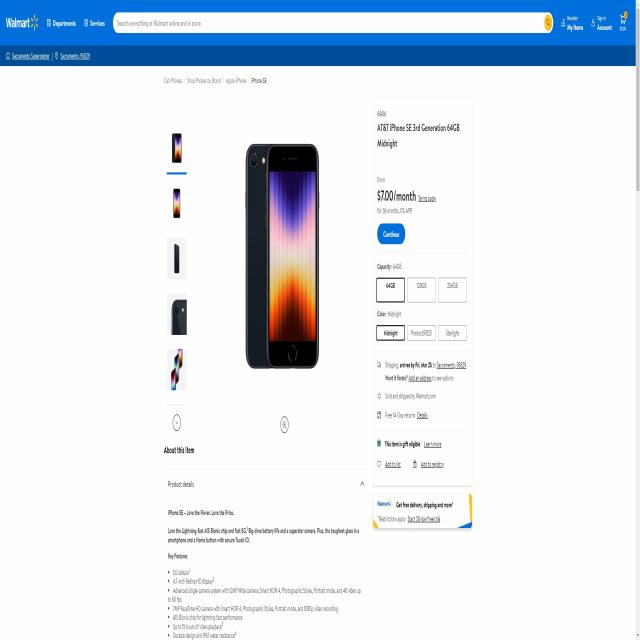content: (166, 474, 367, 640)
menu-bar: (558, 5, 632, 40)
search: (110, 7, 555, 37)
side-panel: (372, 97, 475, 531)
tab-bar: (2, 6, 106, 37)
